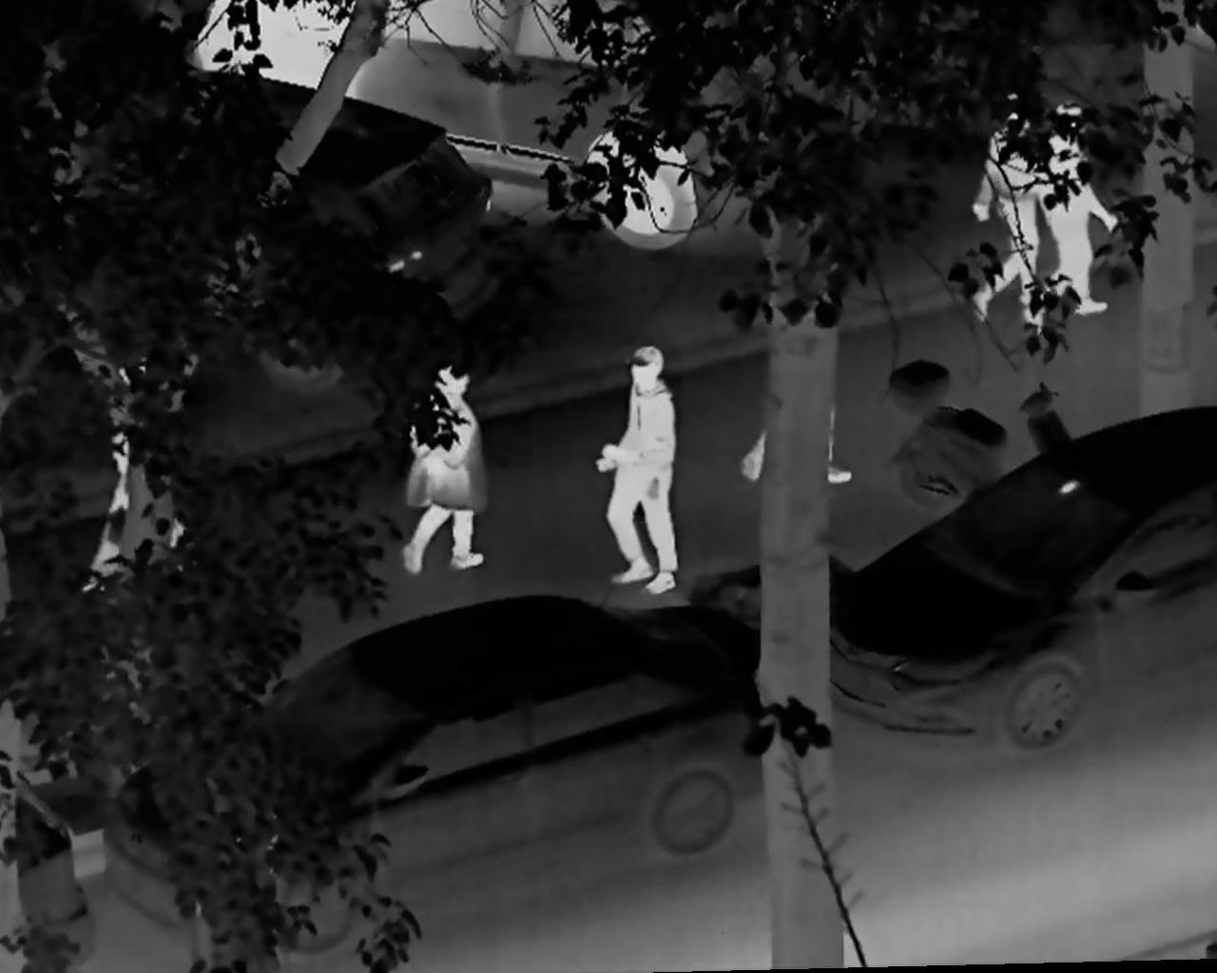person: (87, 360, 189, 599), (594, 340, 682, 599), (1024, 93, 1119, 332), (390, 357, 491, 580), (965, 86, 1051, 336), (742, 352, 860, 495)
